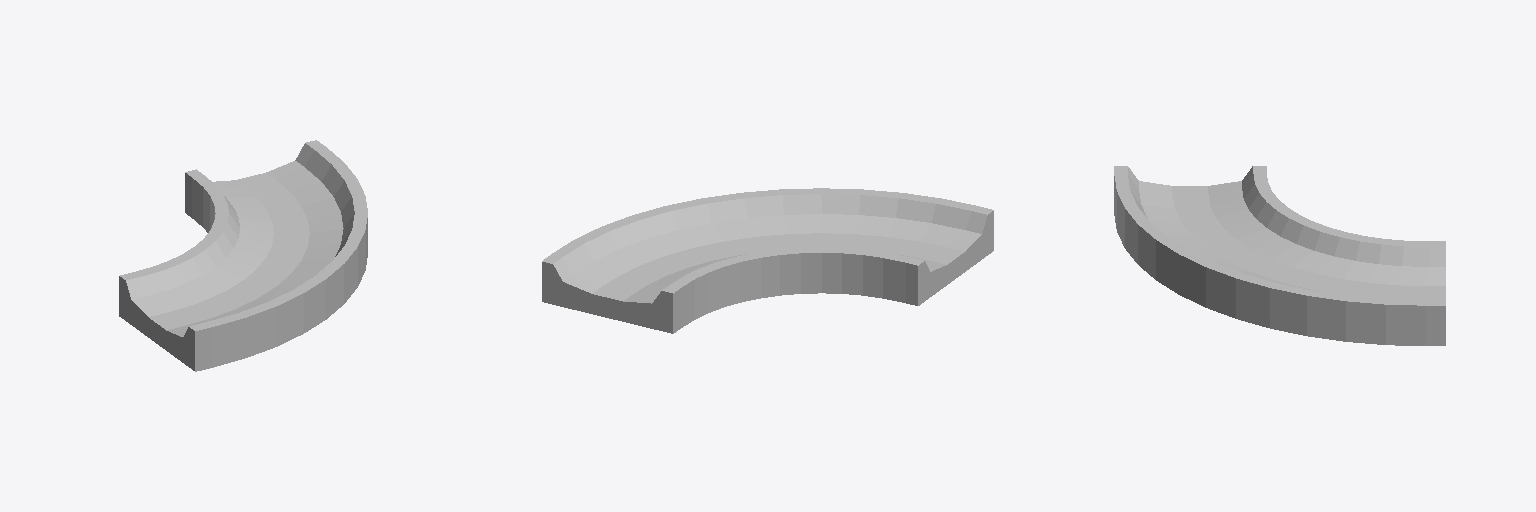
Rendered from curve-wide-large.obj.
3 renders of one model, left to right at view 1: azimuth 30°, elevation 25°; view 2: azimuth 150°, elevation 25°; view 3: azimuth 270°, elevation 25°, orthographic.
Visible parts, largest first — view 1: curve-wide-large; view 2: curve-wide-large; view 3: curve-wide-large.
Part boxes in pixels (left/top/right/bottom): curve-wide-large: left=119, top=140, right=367, bottom=371; curve-wide-large: left=542, top=188, right=993, bottom=333; curve-wide-large: left=1114, top=166, right=1445, bottom=345.
Size of the model in its own units: 3.7 by 0.5 by 3.7.